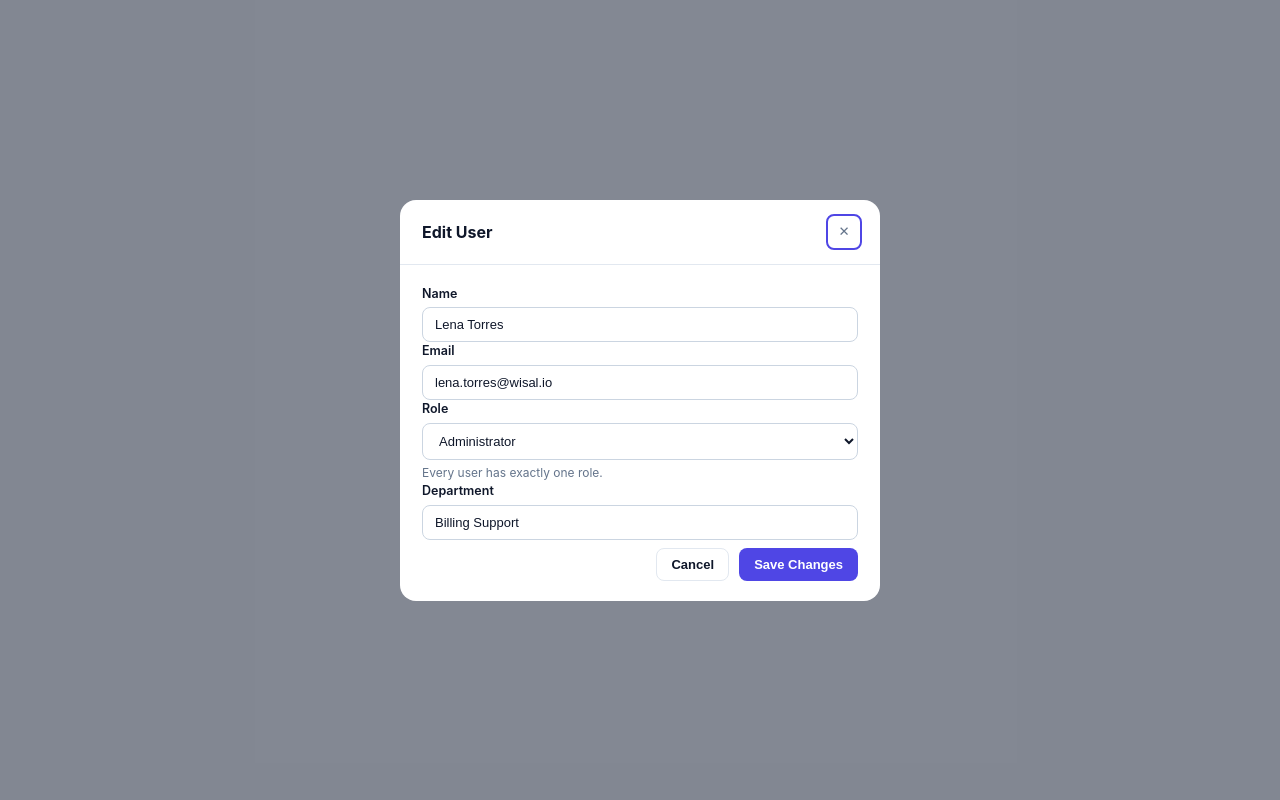
it: EditUserModal › surfaces the last-Administrator rule when the server rejects a downgrade
Select "Agent" in the dropdown labelled "Role" at point(640, 441), box [422,423,858,460]
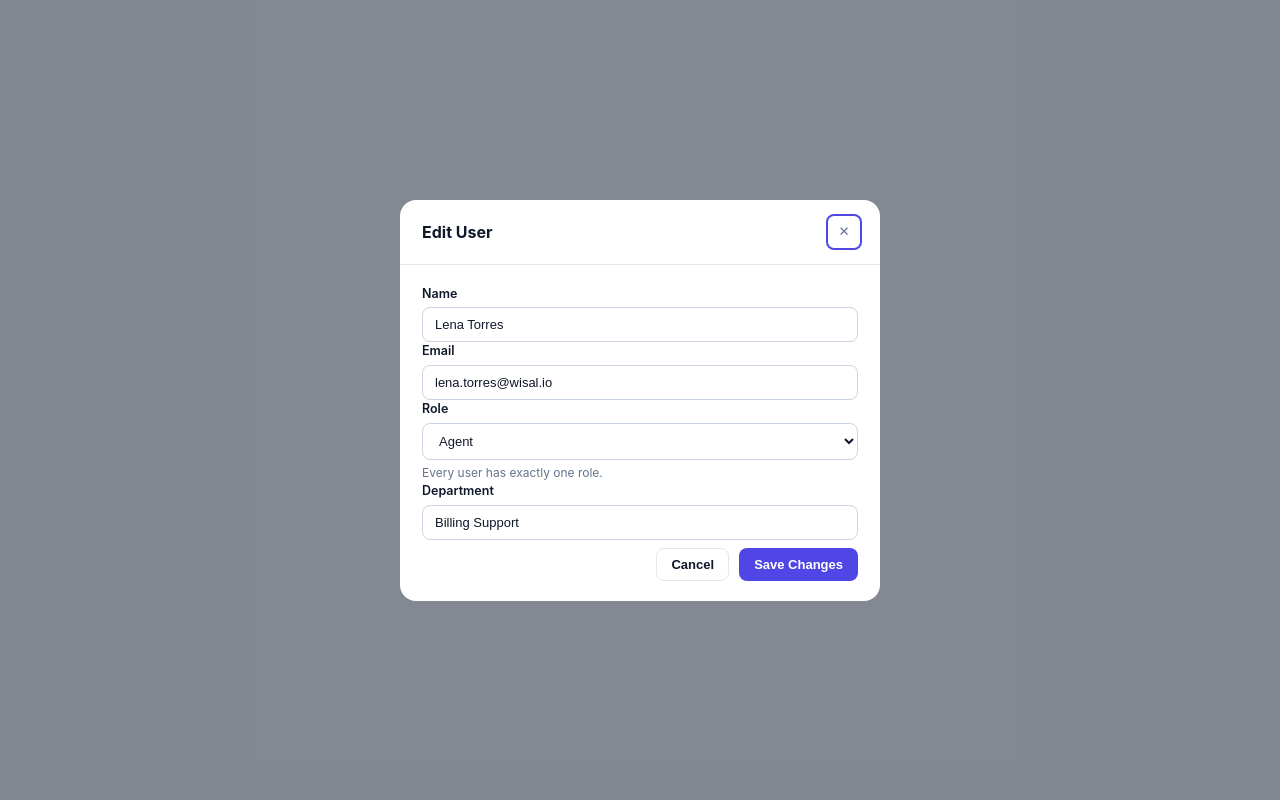
Click the button "Save Changes".
click(799, 564)  # box [739,548,858,580]
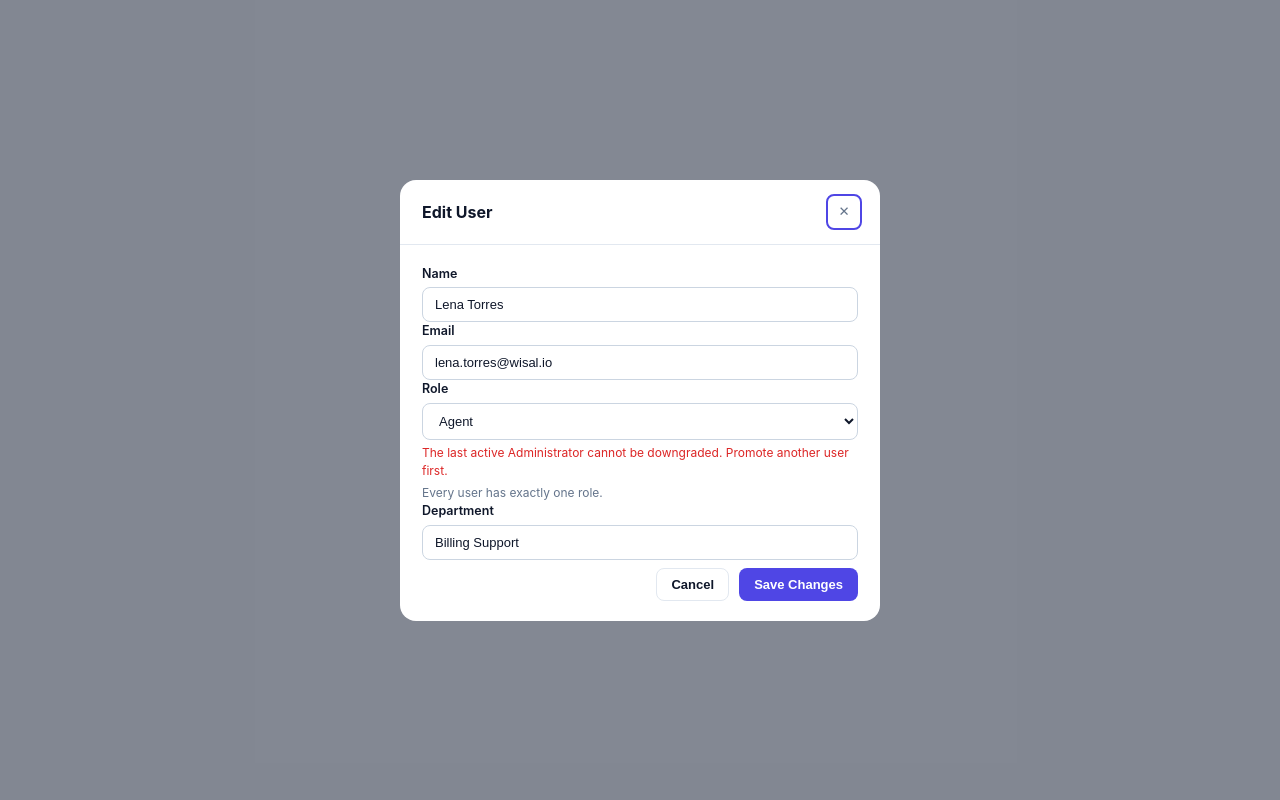
Expected: the text "The last active Administrator cannot be downgraded. Promote another user first." is shown, [422,444,858,480]
